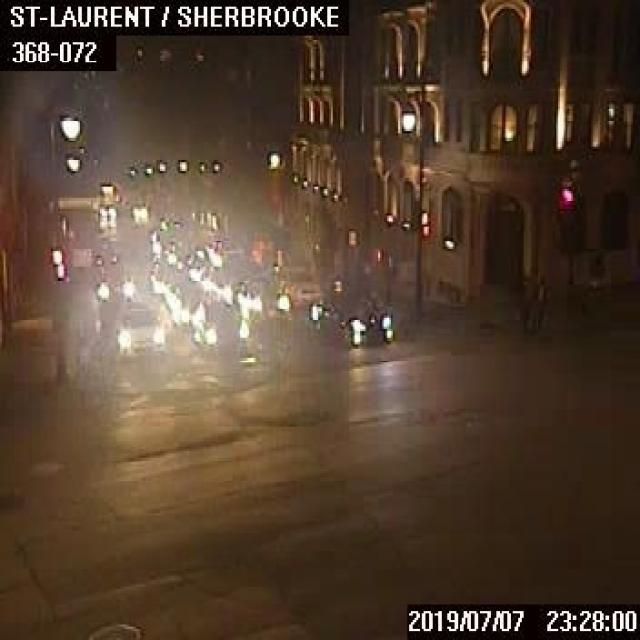construction: (332, 277, 342, 292)
pedestrian: (522, 269, 544, 329)
vehicle: (310, 292, 392, 344), (190, 299, 247, 351), (115, 302, 163, 351), (237, 279, 290, 317), (170, 284, 211, 326), (93, 270, 131, 300), (98, 202, 116, 218)
